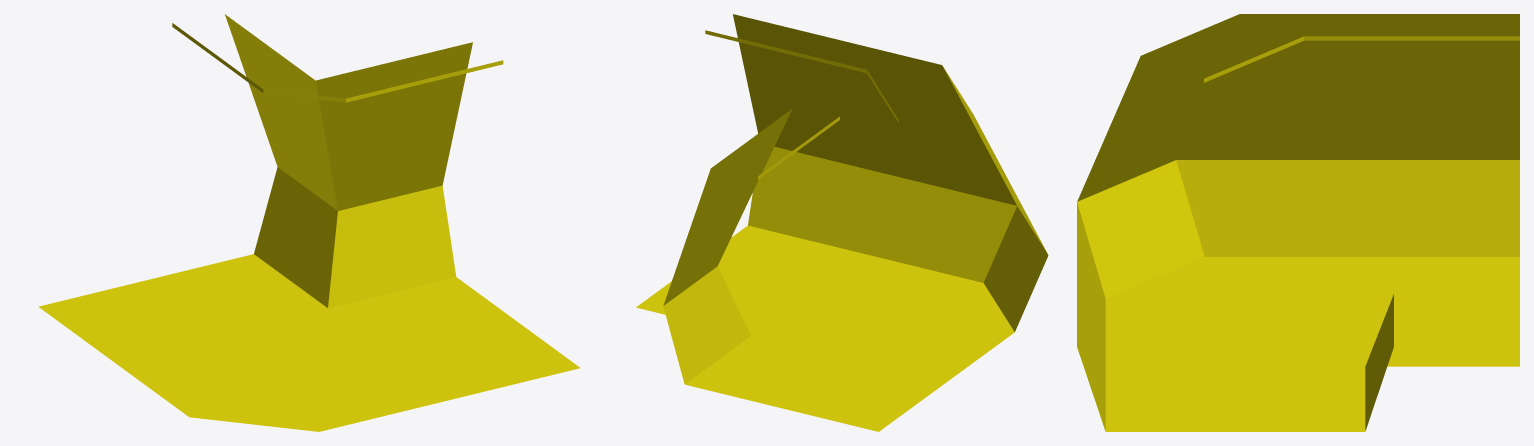
Rendered from corridor_segment.003.glb.
3 renders of one model, left to right at view 1: azimuth 30°, elevation 25°; view 2: azimuth 150°, elevation 25°; view 3: azimuth 270°, elevation 25°, orthographic. The views are drawn at different scales.
Parts seen in each view (by area): view 1: Corridor_segment.003; view 2: Corridor_segment.003; view 3: Corridor_segment.003.
Boxes of the visible parts, x1=… form: Corridor_segment.003: x1=38, y1=14, x2=580, y2=431; Corridor_segment.003: x1=636, y1=14, x2=1048, y2=431; Corridor_segment.003: x1=1077, y1=14, x2=1519, y2=431.
Bounding box in the file's own units: 4.67 × 3.05 × 4.67.
